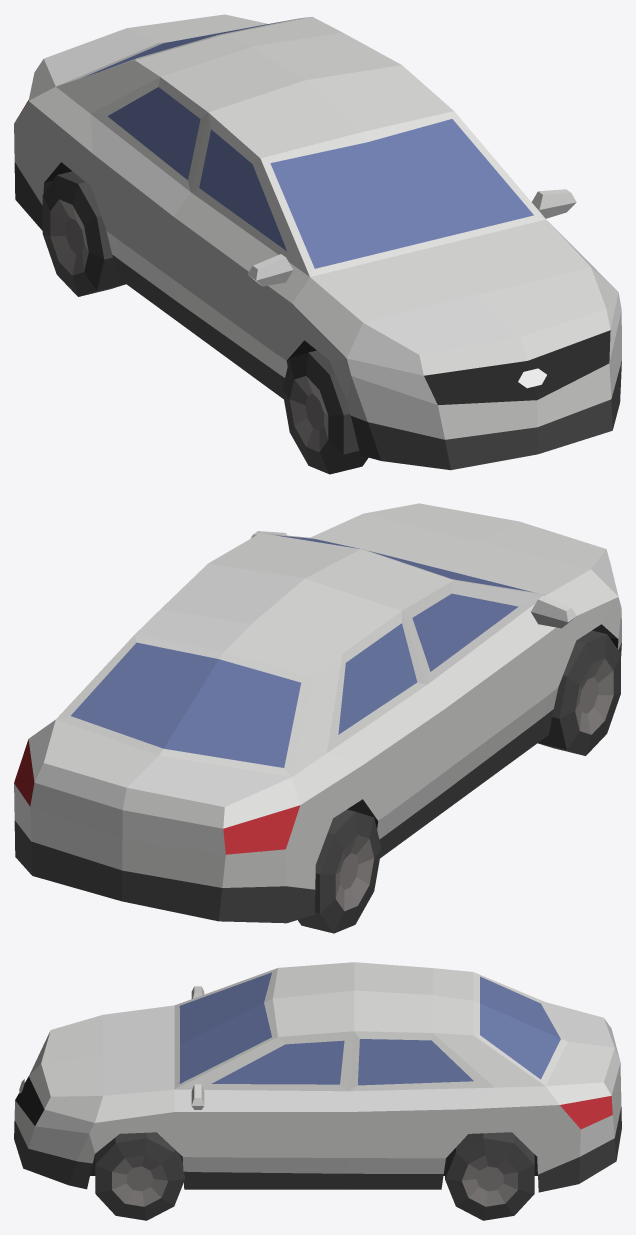
Rendered from car-passenger.fbx.
3 renders of one model, top to bottom at view 1: azimuth 30°, elevation 25°; view 2: azimuth 150°, elevation 25°; view 3: azimuth 270°, elevation 25°, orthographic. The views are drawn at different scales.
Parts seen in each view (by area): view 1: car-passenger-base, car-passenger-wheel_FR, car-passenger-wheel_BR; view 2: car-passenger-base, car-passenger-wheel_FR, car-passenger-wheel_BR; view 3: car-passenger-base, car-passenger-wheel_BL, car-passenger-wheel_FL.
Boxes of the visible parts, box(x1,y1,x2,y2) form: car-passenger-base: box(14, 14, 621, 470); car-passenger-wheel_FR: box(282, 350, 368, 474); car-passenger-wheel_BR: box(42, 171, 125, 296); car-passenger-base: box(14, 503, 621, 923); car-passenger-wheel_FR: box(538, 630, 620, 755); car-passenger-wheel_BR: box(298, 809, 381, 933); car-passenger-base: box(14, 962, 621, 1192); car-passenger-wheel_BL: box(445, 1132, 534, 1220); car-passenger-wheel_FL: box(95, 1132, 184, 1220).
Bounding box in the file's own units: 2.1 × 1.55 × 4.72.
